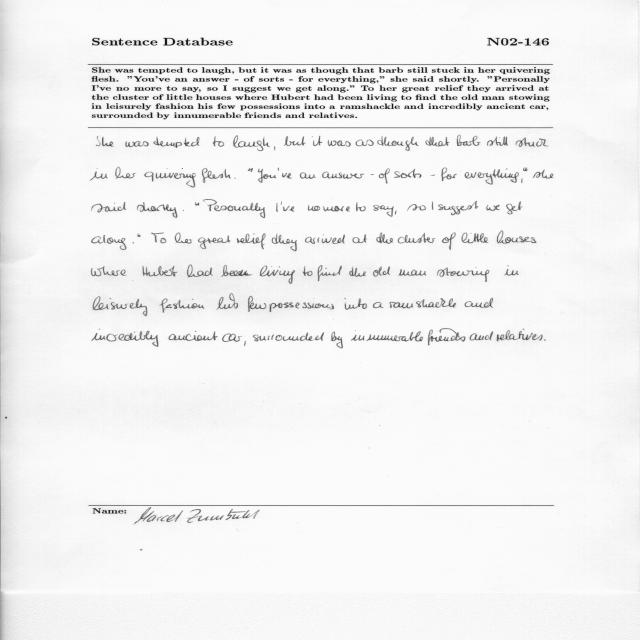word: (92, 329, 158, 347), (203, 200, 265, 218), (94, 296, 148, 316), (144, 168, 196, 187), (465, 169, 519, 185), (437, 267, 490, 282), (351, 331, 423, 342), (390, 298, 456, 308), (269, 303, 334, 313), (137, 202, 177, 218), (253, 333, 324, 342), (260, 266, 295, 284), (160, 299, 205, 313), (428, 329, 465, 346), (378, 136, 419, 151), (497, 329, 543, 342), (233, 135, 270, 151), (438, 201, 479, 215), (92, 235, 127, 250), (497, 231, 537, 244), (154, 137, 200, 148), (169, 331, 218, 341), (271, 234, 297, 252), (237, 233, 266, 249), (202, 168, 231, 183), (198, 236, 231, 249), (305, 234, 345, 244), (317, 265, 342, 281), (398, 233, 436, 243), (92, 202, 126, 213), (221, 265, 252, 277), (91, 266, 127, 276), (217, 293, 238, 310), (143, 266, 178, 276), (187, 265, 213, 278), (516, 137, 549, 147), (465, 297, 493, 308), (462, 233, 489, 244), (322, 172, 364, 179), (248, 296, 266, 312), (258, 168, 276, 183), (457, 135, 481, 146), (345, 298, 367, 310), (115, 167, 136, 179), (394, 169, 422, 178), (373, 205, 394, 217), (442, 232, 456, 250), (426, 137, 450, 147), (90, 168, 108, 181), (506, 202, 523, 215), (284, 136, 305, 146), (487, 136, 508, 146), (470, 332, 493, 341), (376, 232, 393, 244), (331, 332, 343, 349), (96, 136, 114, 147), (175, 233, 193, 244), (399, 269, 427, 276), (442, 168, 457, 181), (373, 266, 390, 277), (533, 170, 553, 179), (222, 333, 242, 342), (379, 168, 390, 184), (151, 233, 166, 244), (328, 140, 351, 147), (278, 168, 292, 179), (349, 268, 366, 277), (125, 141, 149, 147), (281, 201, 295, 211), (505, 266, 519, 276), (323, 206, 350, 211), (407, 204, 426, 211), (353, 235, 367, 244), (213, 136, 224, 147), (355, 140, 374, 146), (300, 172, 316, 179), (312, 136, 322, 146), (303, 266, 313, 276), (356, 203, 366, 212), (486, 205, 500, 211), (308, 205, 320, 211), (373, 302, 384, 308), (248, 168, 253, 172), (523, 168, 528, 172), (276, 203, 278, 212), (195, 202, 199, 206), (244, 342, 246, 347), (432, 201, 433, 210), (138, 234, 141, 237), (431, 174, 435, 176), (521, 179, 523, 183), (395, 211, 397, 215), (274, 146, 275, 150), (370, 174, 374, 175), (544, 339, 546, 341), (132, 242, 134, 243), (183, 210, 184, 211), (234, 178, 236, 178)
